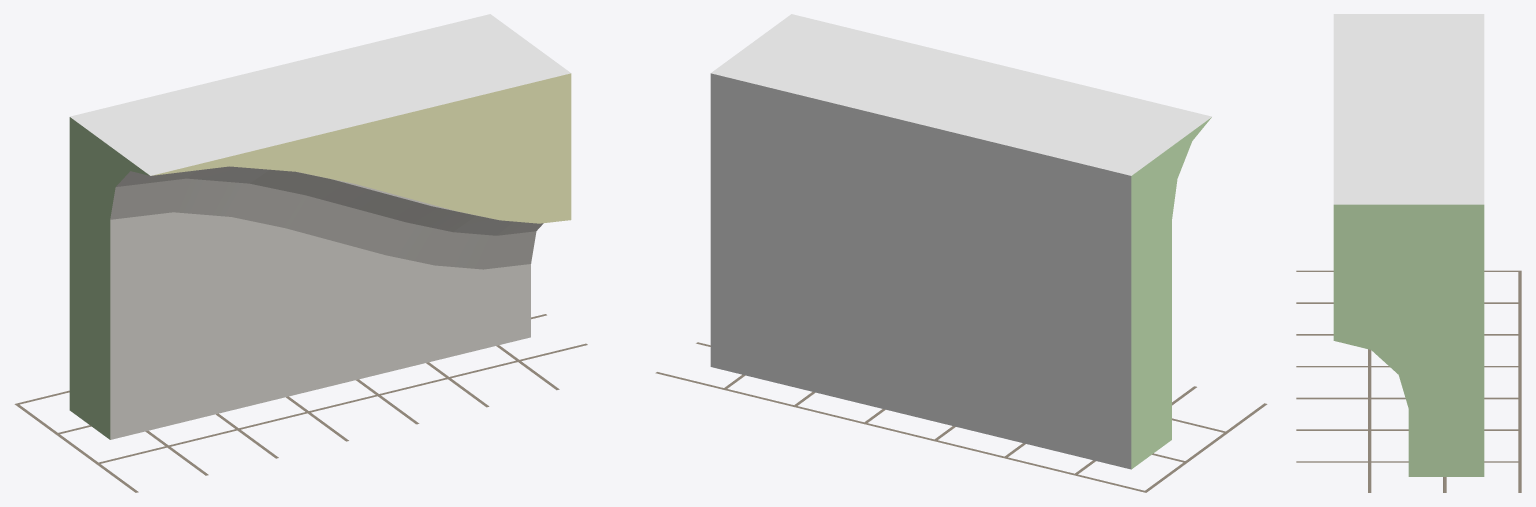
Rendered from Wall_Incline_2x6_Top.glb.
3 views of the same model, side by side, from view 1: azimuth 30°, elevation 25°; view 2: azimuth 150°, elevation 25°; view 3: azimuth 270°, elevation 25° (orthographic). The views are drawn at different scales.
Visible parts, largest first — view 1: Wall_Incline_2x6_Top, Floor; view 2: Wall_Incline_2x6_Top, Floor; view 3: Wall_Incline_2x6_Top, Floor.
Part boxes in pixels (<box>): Wall_Incline_2x6_Top: <box>69,14,571,439</box>; Floor: <box>14,314,587,492</box>; Wall_Incline_2x6_Top: <box>710,14,1211,469</box>; Floor: <box>655,342,1267,492</box>; Wall_Incline_2x6_Top: <box>1333,14,1484,476</box>; Floor: <box>1296,270,1521,492</box>.
Bounding box in the file's own units: 700 × 400 × 300.
Materials: 6 (1 with a texture image).
